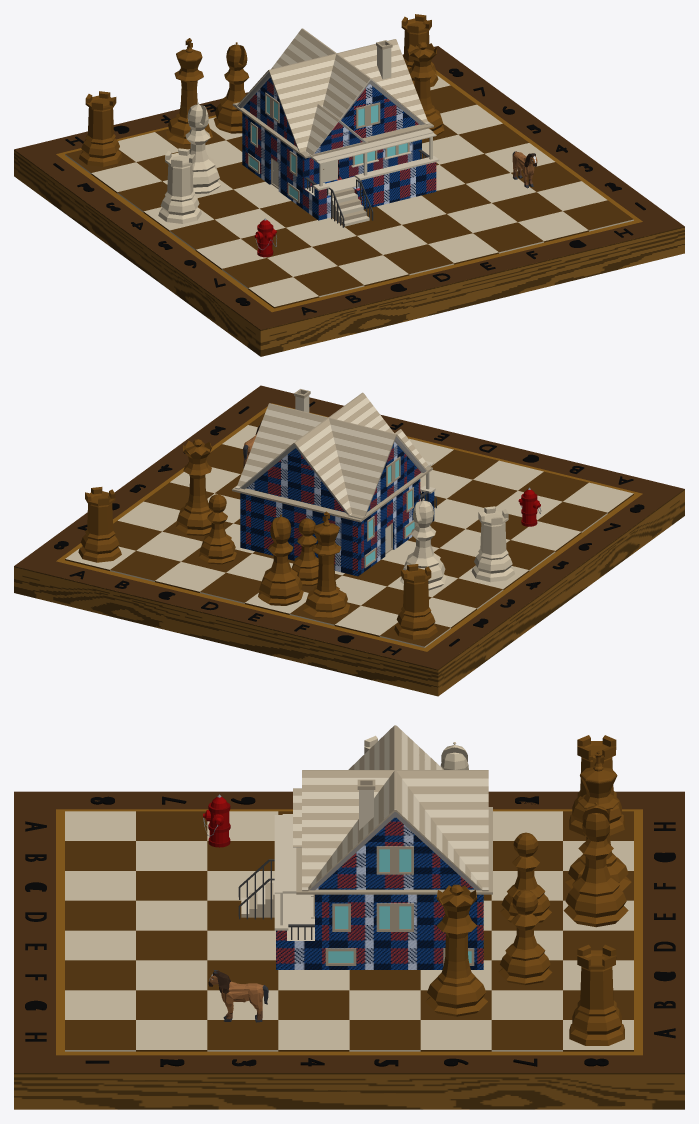
3 views of the same model, one above another, from view 1: azimuth 30°, elevation 25°; view 2: azimuth 150°, elevation 25°; view 3: azimuth 270°, elevation 25° (orthographic). The views are drawn at different scales.
Visible parts, largest first — view 1: Cube.002, Cube.171, ANIMAL_CABALLO, OBJRANDOM_FIRE_HYDRANT; view 2: Cube.002, Cube.171, OBJRANDOM_FIRE_HYDRANT; view 3: Cube.002, Cube.171, ANIMAL_CABALLO, OBJRANDOM_FIRE_HYDRANT.
Boxes of the visible parts, x1,y1,x2,y2 form: Cube.002: (14,14,684,356); Cube.171: (232,28,439,227); ANIMAL_CABALLO: (512,151,537,188); OBJRANDOM_FIRE_HYDRANT: (254,218,276,257); Cube.002: (14,385,684,696); Cube.171: (232,389,436,576); OBJRANDOM_FIRE_HYDRANT: (518,487,541,526); Cube.002: (14,735,684,1109); Cube.171: (238,725,492,969); ANIMAL_CABALLO: (208,969,268,1022); OBJRANDOM_FIRE_HYDRANT: (203,794,230,847).
Bounding box in the file's own units: 3981 × 1585 × 4012.
Materials: 25 (3 with a texture image).
